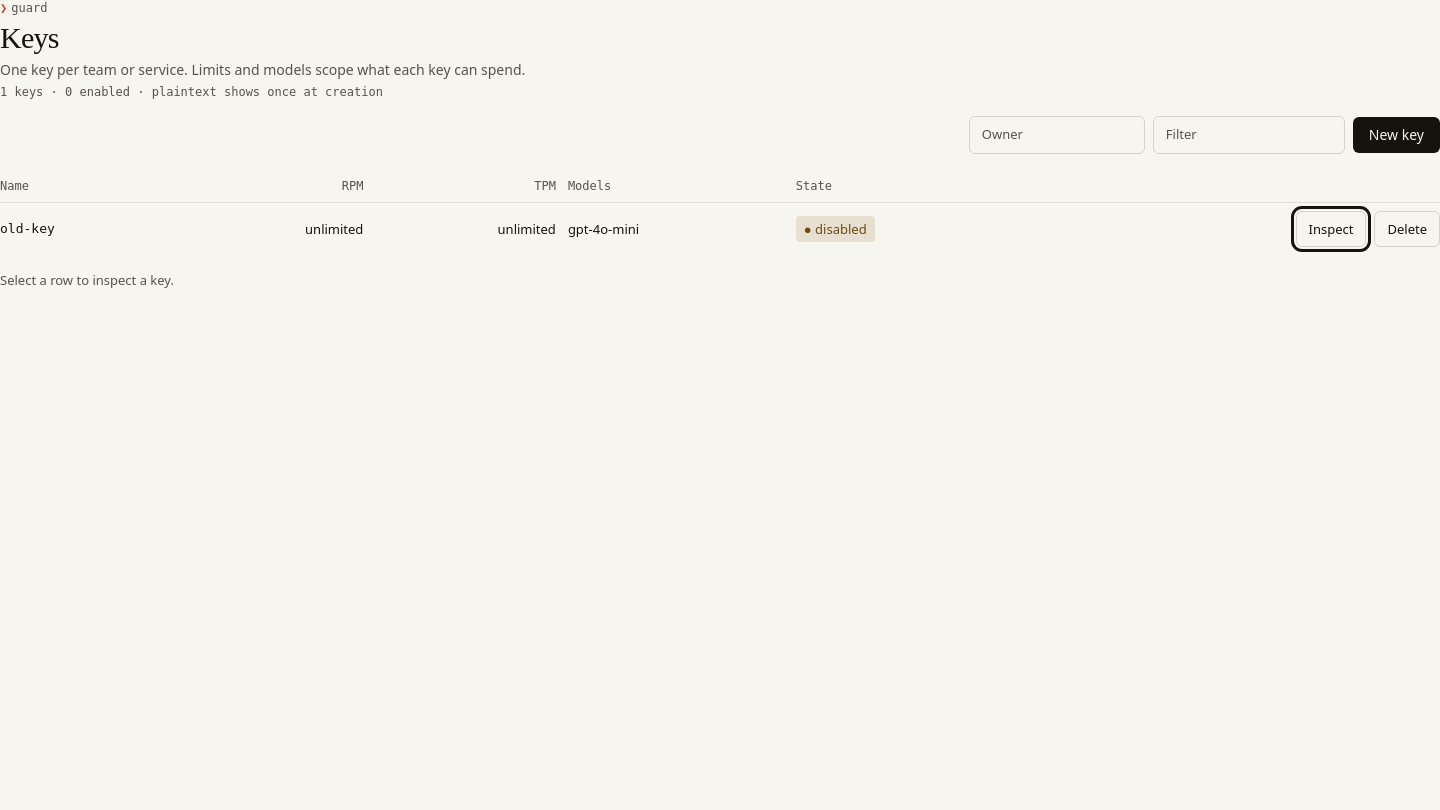
Test: KeysPage › selects a disabled key row from the keyboard
Press Enter
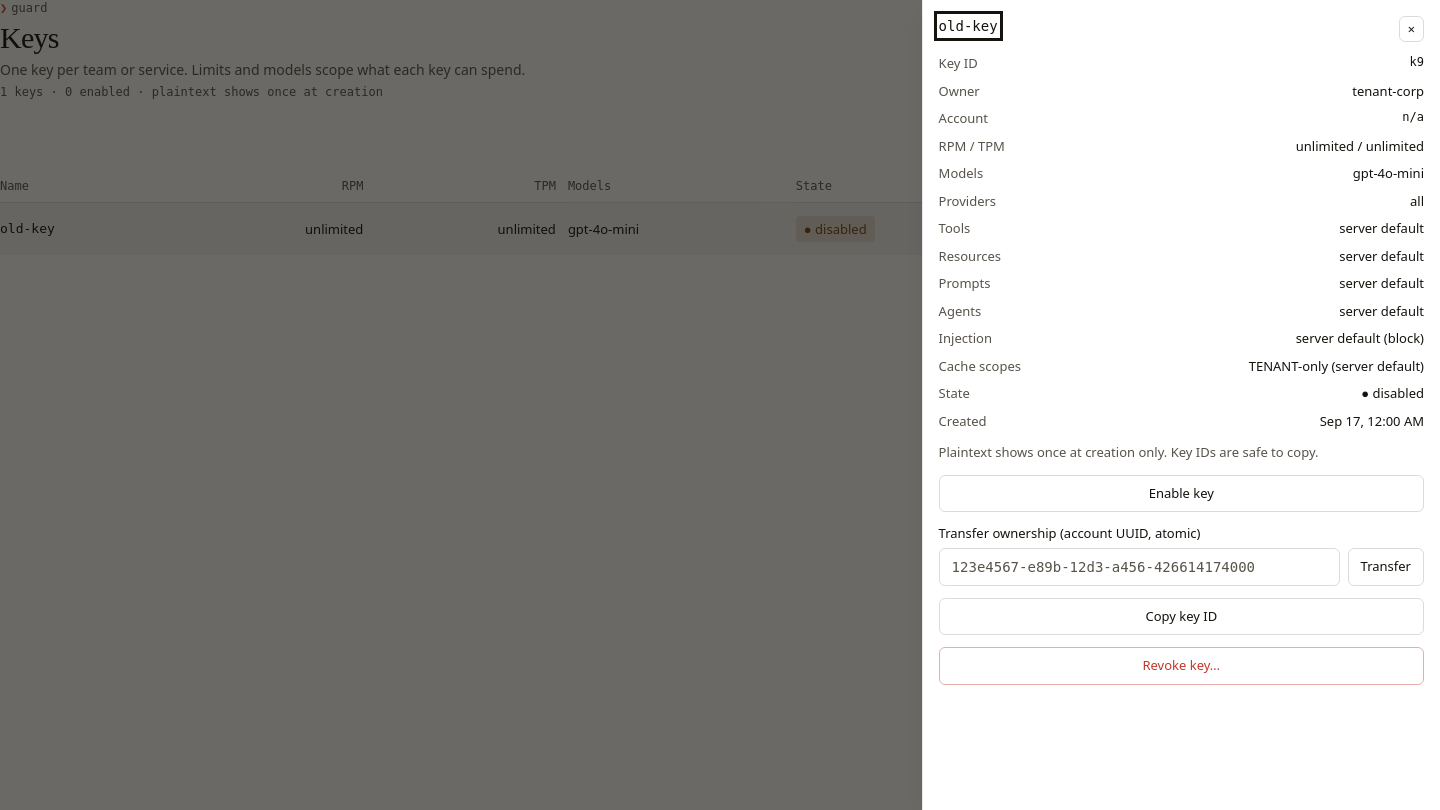
expect the dialog named "key inspector" shows "disabled": met, box 1372,384 -> 1424,402
expect the dialog named "key inspector" shows "all": met, box 1410,192 -> 1424,210
expect the dialog named "key inspector" shows "unlimited / unlimited": met, box 922,0 -> 1439,809
Click the button named "close inspector" at (1411, 29), box 1399,16 -> 1424,42
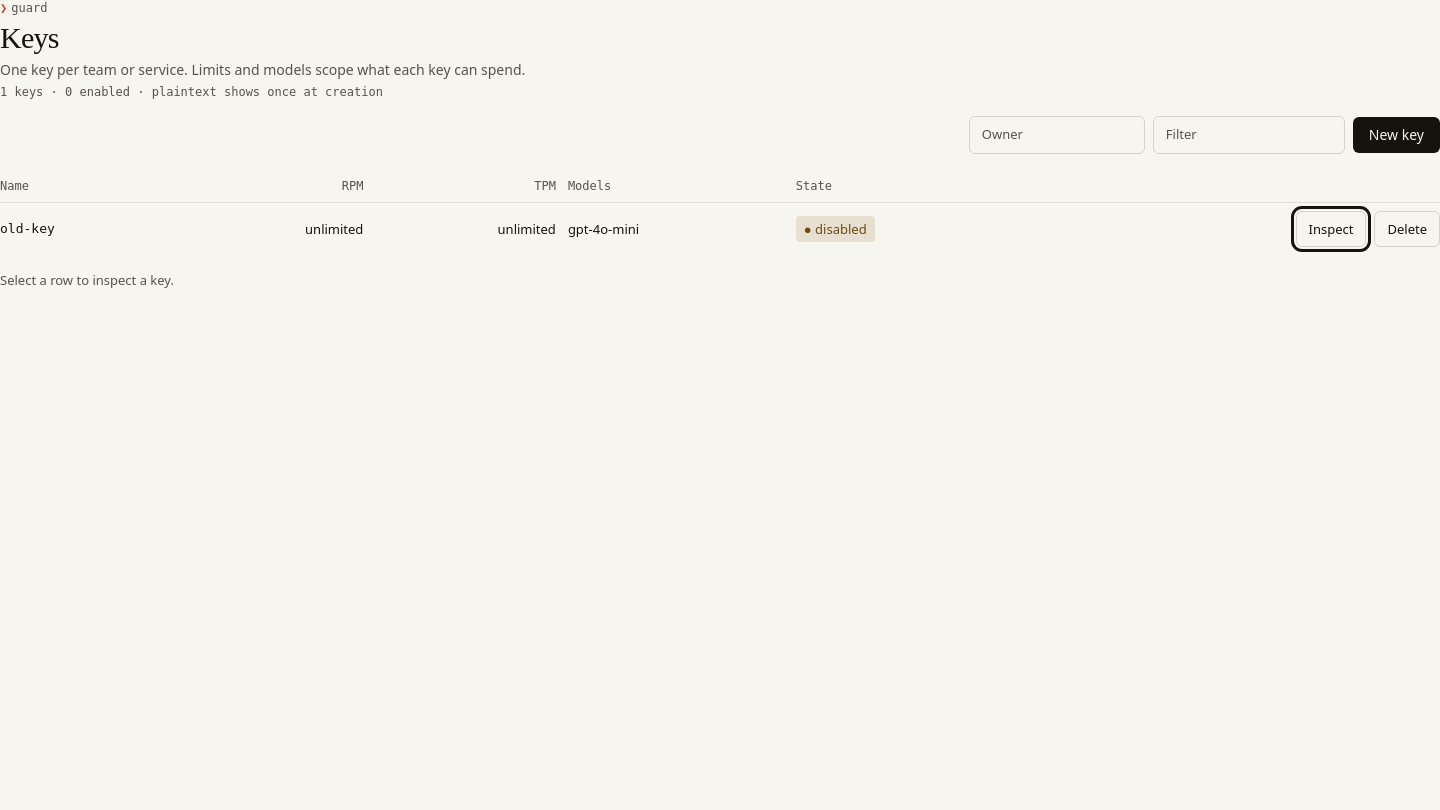
expect the dialog is gone: met
expect the text "Select a row to inspect a key." is shown: met, box 0,271 -> 174,289
